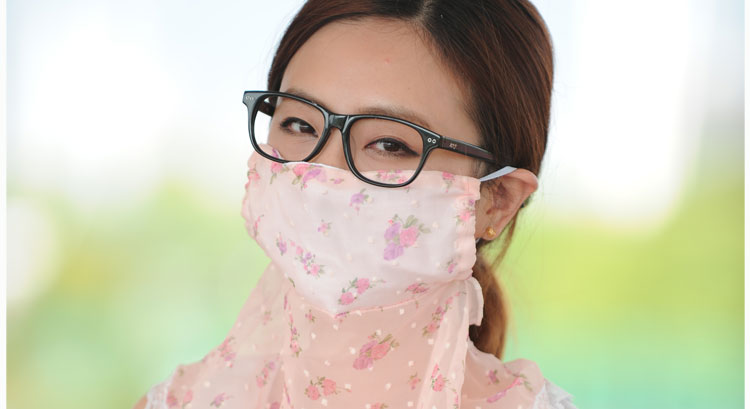face_mask: (267, 60, 477, 309)
